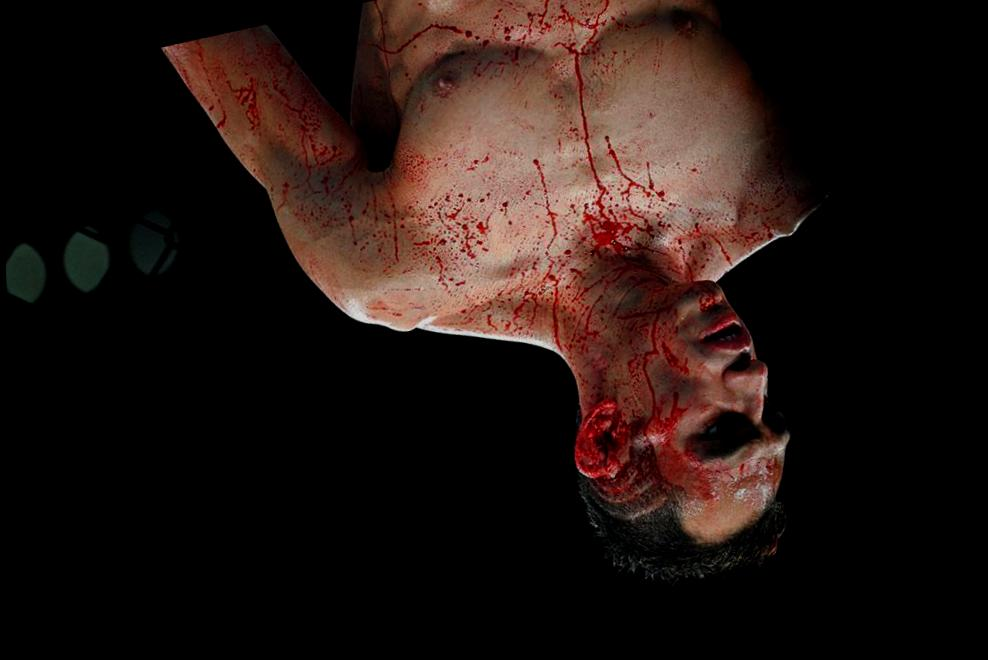Fire: (159, 0, 788, 526)
